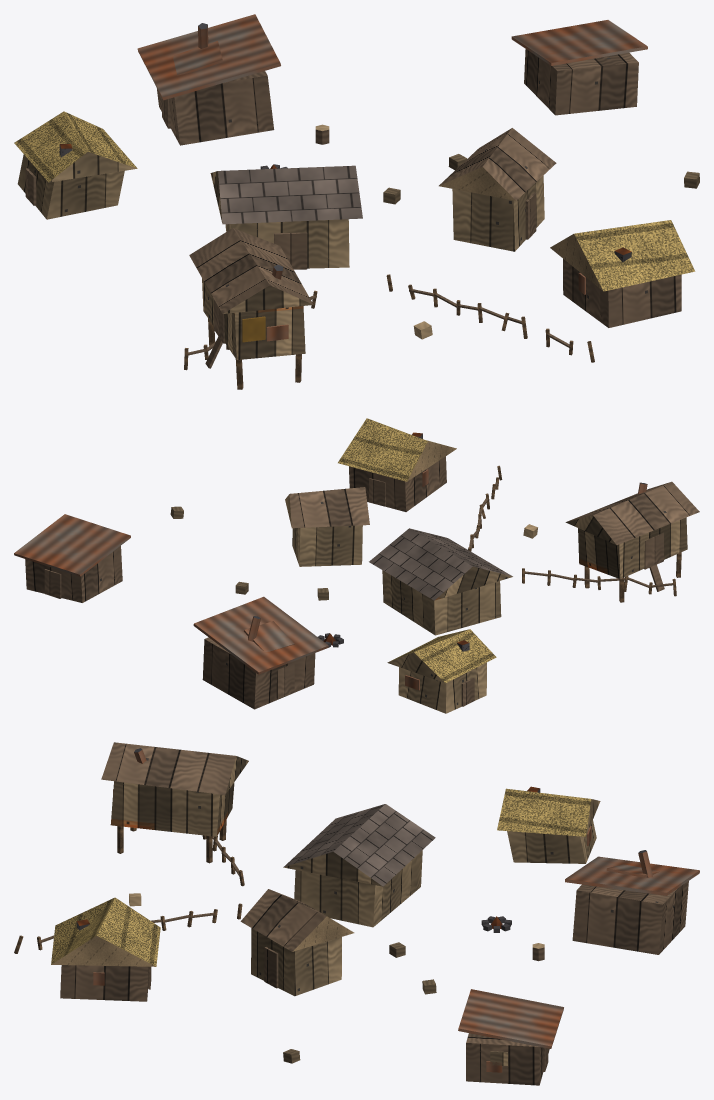
Rendered from cm_goblin_peasant_c.glb.
The picture shows the model from 3 angles, top to bottom: view 1: azimuth 30°, elevation 25°; view 2: azimuth 150°, elevation 25°; view 3: azimuth 270°, elevation 25°; orthographic projection. The views are drawn at different scales.
Visible parts, largest first — view 1: cm_goblin_peasant_c; view 2: cm_goblin_peasant_c; view 3: cm_goblin_peasant_c.
Part boxes in pixels (box(x1,y1,x2,y2)): cm_goblin_peasant_c: box(14, 14, 699, 389); cm_goblin_peasant_c: box(14, 418, 699, 713); cm_goblin_peasant_c: box(14, 742, 699, 1085).
Bounding box in the file's own units: 1.68 × 0.2822 × 1.76.
Materials: 1 (1 with a texture image).
